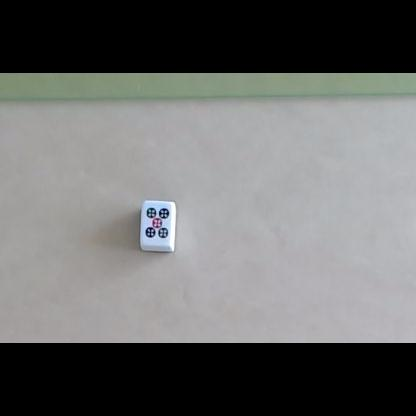5p: (145, 207, 169, 239)
